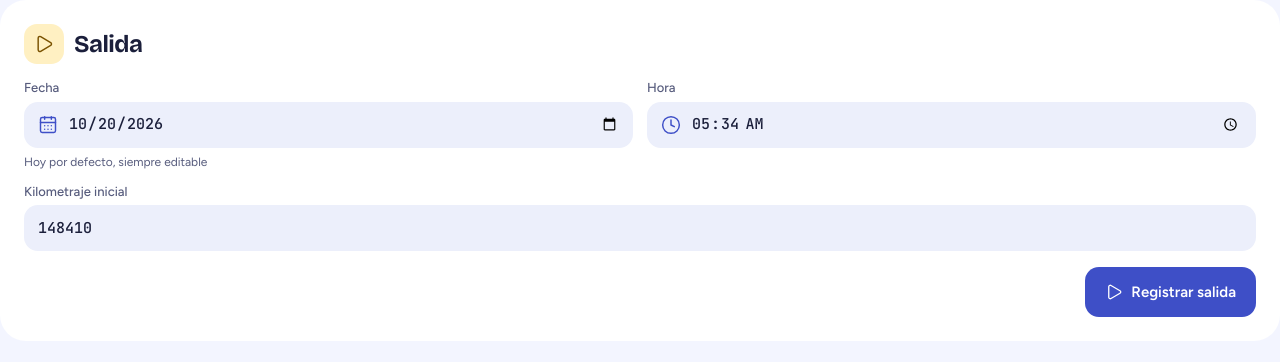
Scenario: DepartureCard before the departure › refuses to register the departure of a trip scheduled for next week
The image size is (1280, 362).
Click the button "Registrar salida": x=1171, y=292 [1085,267,1256,317]
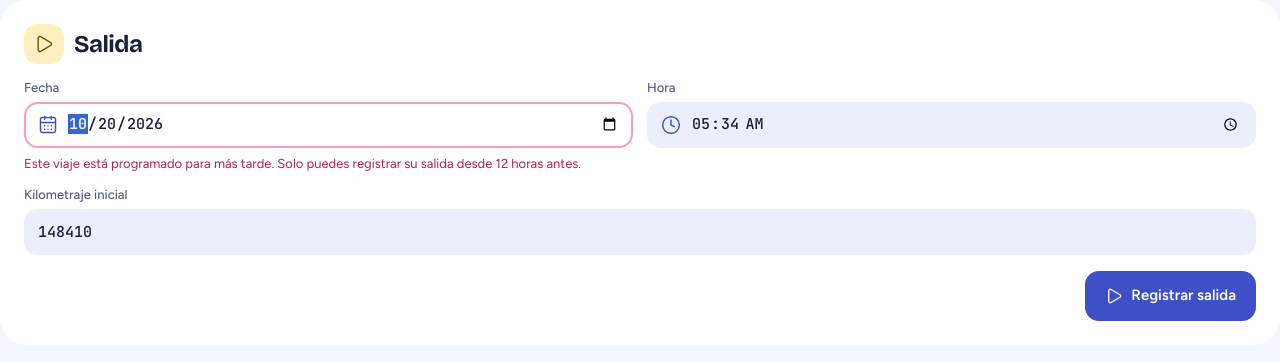
Result: the text "Este viaje está programado para más tarde" is shown at [24,156,581,171]
